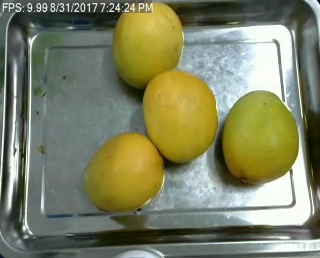Mango: (219, 88, 299, 184), (141, 72, 219, 160), (82, 131, 164, 210), (112, 2, 184, 87)
